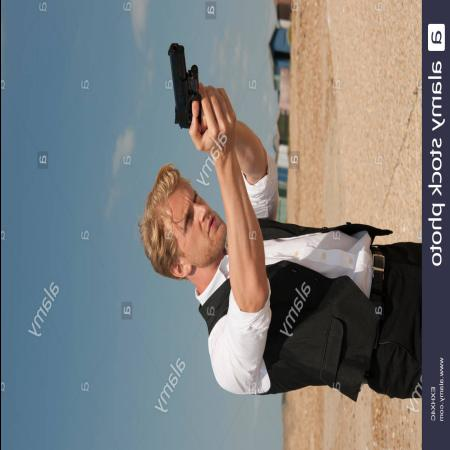Pistol: (163, 40, 206, 133)
